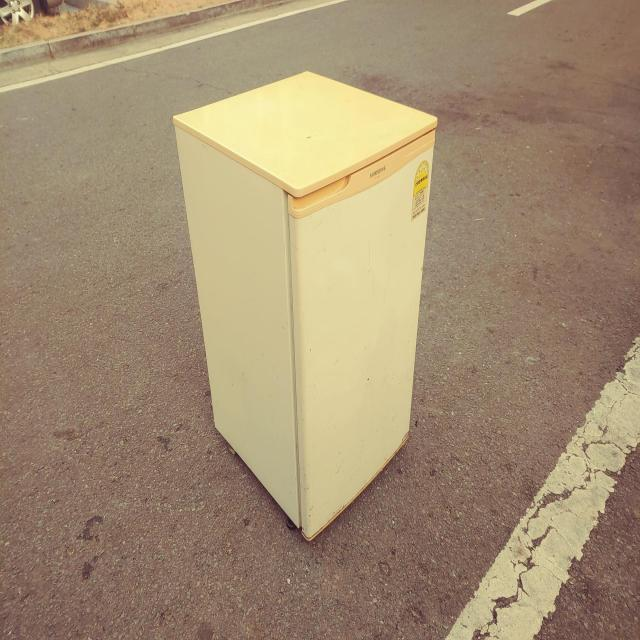refrigerator: (170, 68, 438, 543)
